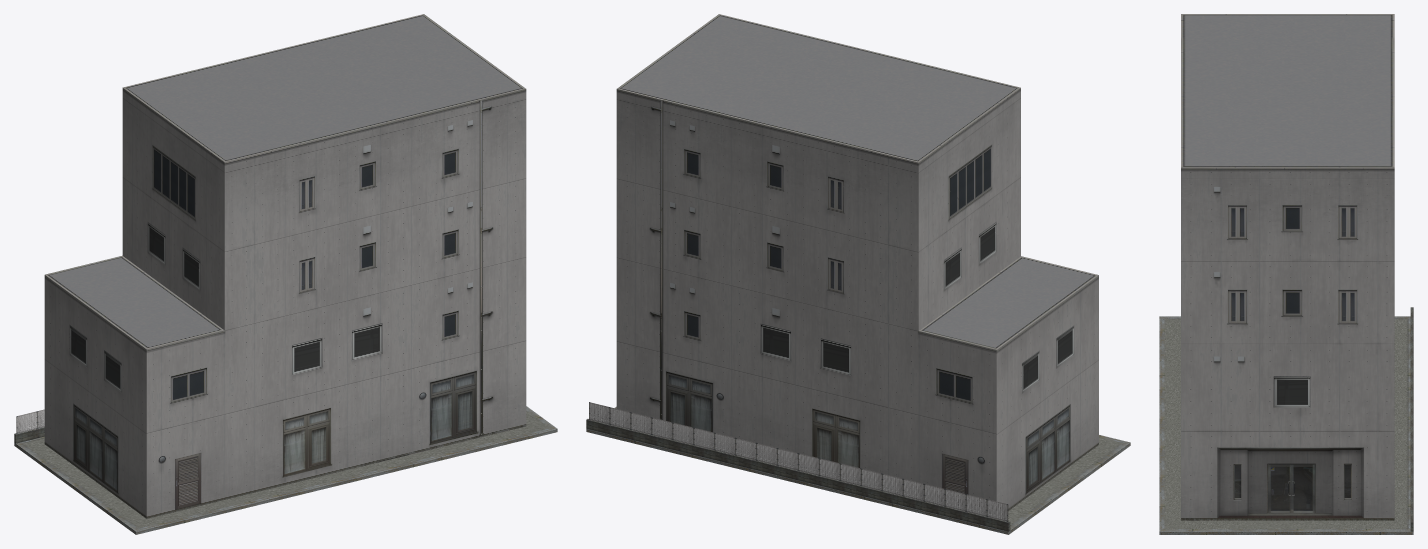
File: Apartment_concrete.fbx
3 renders of one model, left to right at view 1: azimuth 30°, elevation 25°; view 2: azimuth 150°, elevation 25°; view 3: azimuth 270°, elevation 25°, orthographic. The views are drawn at different scales.
Parts seen in each view (by area): view 1: 100_Apartment_concrete, 000_Site_Apartment_concrete, 220_Fence_20m_Apartment_concrete; view 2: 100_Apartment_concrete, 220_Fence_20m_Apartment_concrete, 000_Site_Apartment_concrete; view 3: 100_Apartment_concrete, 000_Site_Apartment_concrete, 220_Fence_20m_Apartment_concrete.
Part boxes in pixels (bbox=[...]): 100_Apartment_concrete: bbox=[44, 14, 526, 518]; 000_Site_Apartment_concrete: bbox=[14, 406, 557, 534]; 220_Fence_20m_Apartment_concrete: bbox=[14, 409, 44, 443]; 100_Apartment_concrete: bbox=[616, 14, 1098, 510]; 220_Fence_20m_Apartment_concrete: bbox=[586, 402, 1010, 531]; 000_Site_Apartment_concrete: bbox=[586, 406, 1130, 534]; 100_Apartment_concrete: bbox=[1181, 14, 1394, 520]; 000_Site_Apartment_concrete: bbox=[1159, 316, 1413, 534]; 220_Fence_20m_Apartment_concrete: bbox=[1410, 307, 1413, 531].
Bounding box in the file's own units: 20 × 15.45 × 10.
